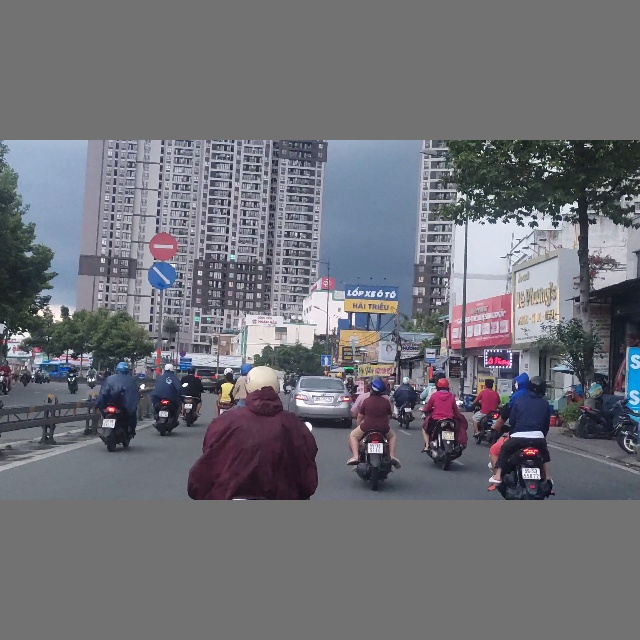I.407a: (321, 355, 331, 365)
I.434a: (424, 347, 437, 363)
P.102: (149, 231, 178, 262)
R.302a: (147, 261, 177, 290)
